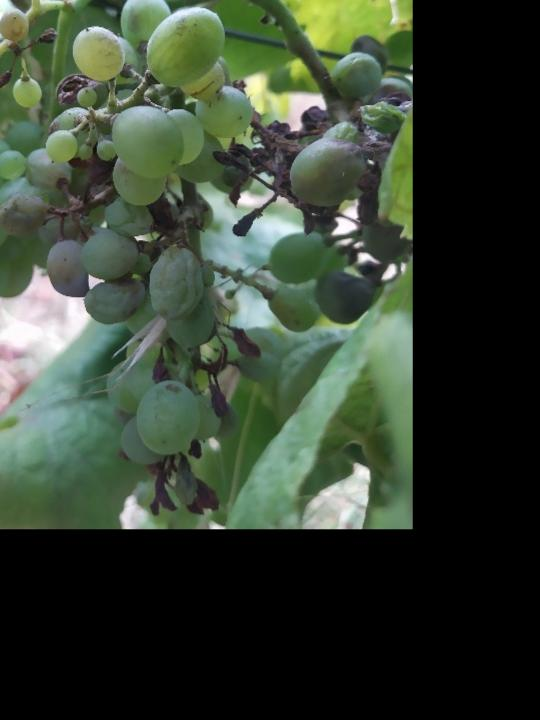grape: (0, 0, 262, 522)
